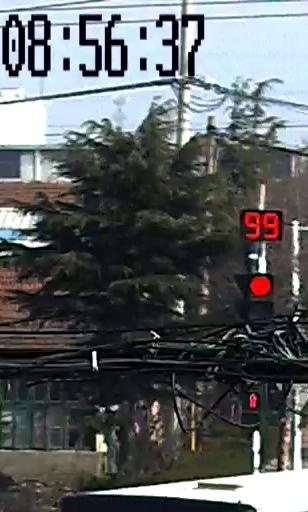red: (244, 272, 273, 296)
redpeople: (244, 387, 261, 415)
redtime: (244, 209, 281, 242)
